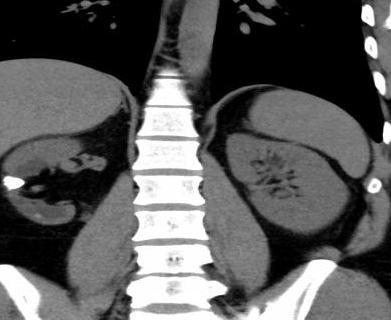Tas_Var: (2, 172, 29, 194)
